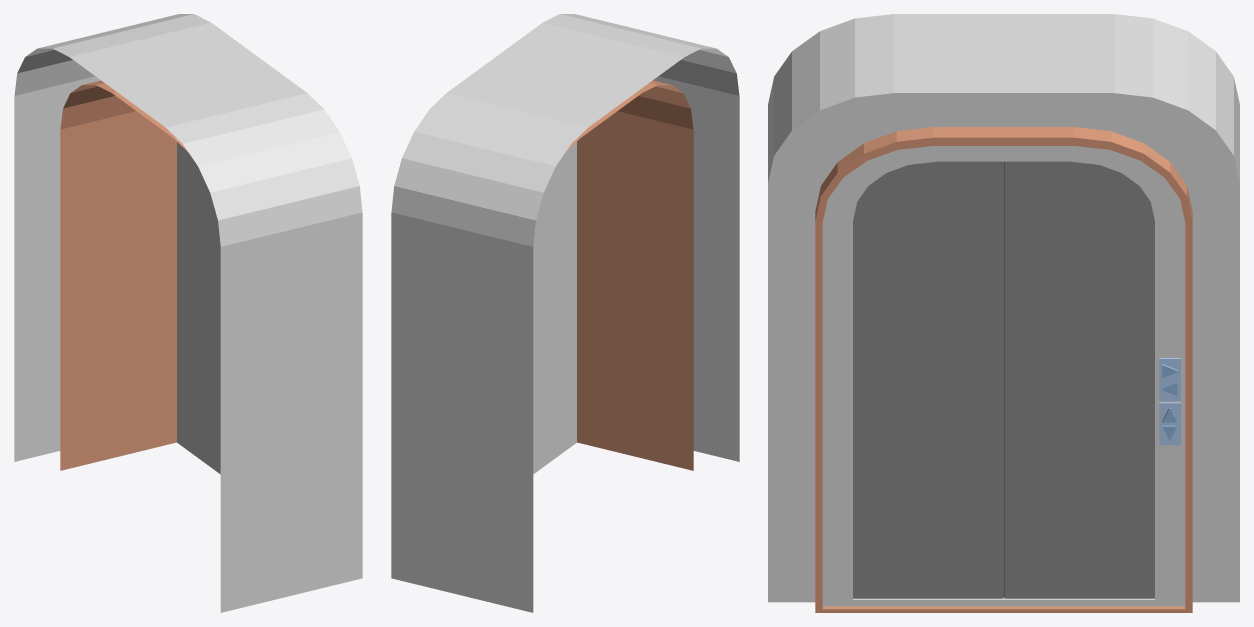
File: Elevator_02.fbx
3 renders of one model, left to right at view 1: azimuth 30°, elevation 25°; view 2: azimuth 150°, elevation 25°; view 3: azimuth 270°, elevation 25°, orthographic. The views are drawn at different scales.
Visible parts, largest first — view 1: Elevator, Elevator-Frame; view 2: Elevator, Elevator-Frame; view 3: Elevator, Elevator-Door-l, Elevator-Door-r, Elevator-Frame, ControlPanel_up, ControlPanel_side.
Part boxes in pixels (x1=…): Elevator: x1=14, y1=14, x2=362, y2=612; Elevator-Frame: x1=60, y1=80, x2=188, y2=470; Elevator: x1=391, y1=14, x2=739, y2=612; Elevator-Frame: x1=565, y1=80, x2=693, y2=470; Elevator: x1=768, y1=14, x2=1239, y2=602; Elevator-Door-l: x1=853, y1=161, x2=1003, y2=598; Elevator-Door-r: x1=1004, y1=161, x2=1154, y2=598; Elevator-Frame: x1=815, y1=127, x2=1192, y2=612; ControlPanel_up: x1=1159, y1=402, x2=1180, y2=445; ControlPanel_side: x1=1159, y1=358, x2=1180, y2=400.
Bounding box in the file's own units: 113 × 300 × 252.
